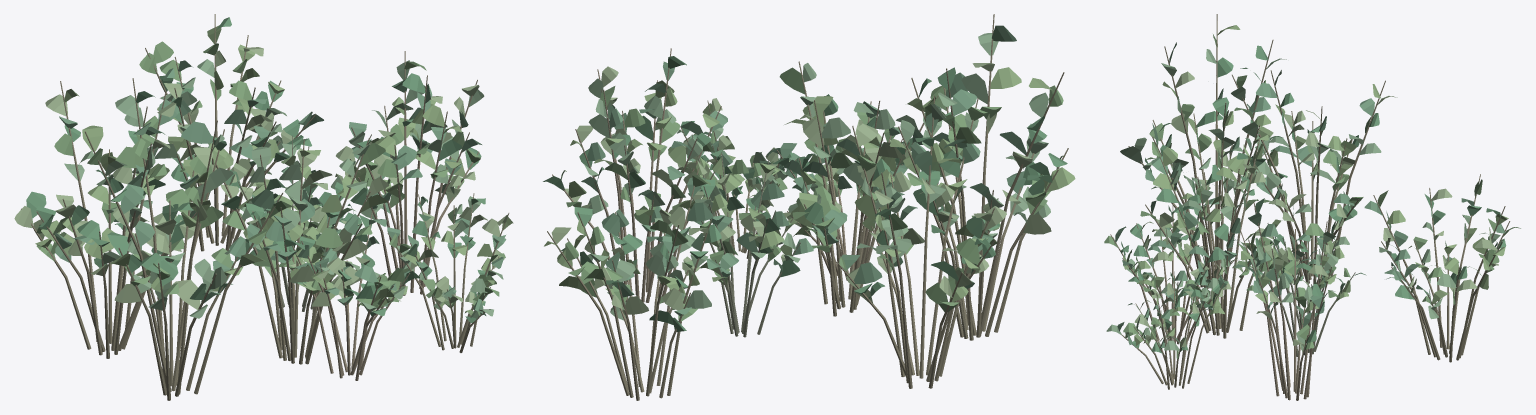
File: E07_VEG01_ARBUSTO_ALTO_R3Z2_REV04.glb
The picture shows the model from 3 angles, left to right: view 1: azimuth 30°, elevation 25°; view 2: azimuth 150°, elevation 25°; view 3: azimuth 270°, elevation 25°; orthographic projection. The views are drawn at different scales.
Parts seen in each view (by area): view 1: world; view 2: world; view 3: world.
Part boxes in pixels (x1,y1,x2,y2): world: (14,14,513,400); world: (543,14,1075,400); world: (1104,14,1520,400).
Size of the model in its own units: 1.28 by 0.7815 by 1.23.
